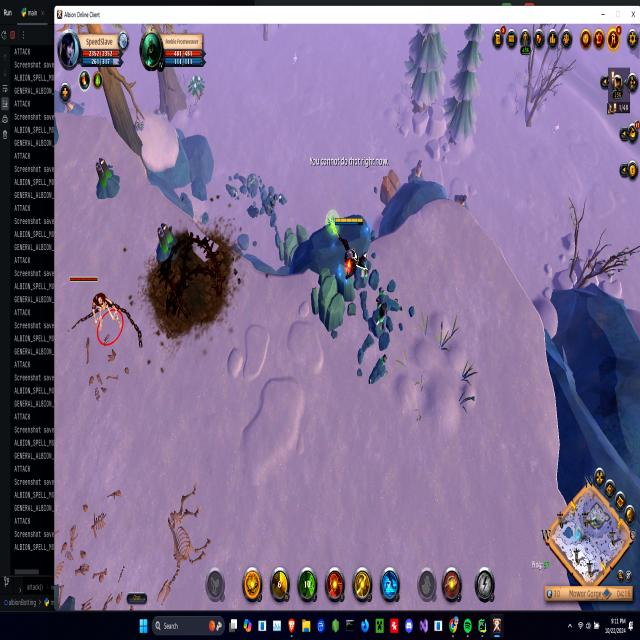hide: (185, 70, 206, 104)
ore: (72, 272, 123, 345), (246, 182, 288, 257)
player: (349, 279, 408, 396), (92, 154, 121, 204), (153, 217, 180, 268), (407, 154, 427, 190), (450, 188, 472, 217)
red: (326, 206, 370, 279)
tree: (306, 264, 349, 339), (372, 166, 405, 208)
